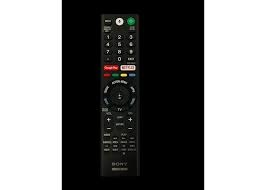remote control: (98, 10, 138, 181)
